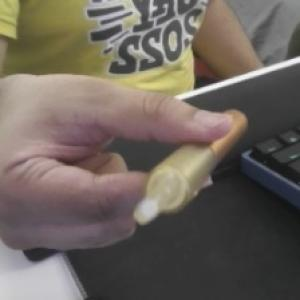Golden-E-Ciggirate: (132, 108, 249, 229)
